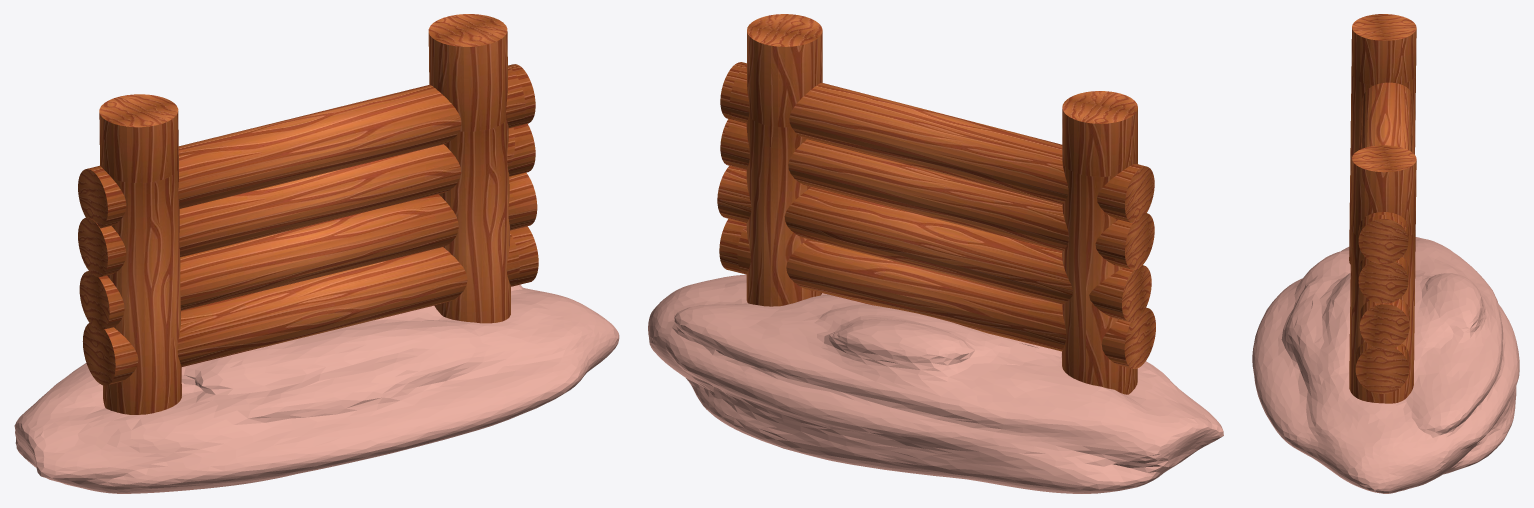
The model's file is Wall Engineer.fbx.
3 renders of one model, left to right at view 1: azimuth 30°, elevation 25°; view 2: azimuth 150°, elevation 25°; view 3: azimuth 270°, elevation 25°, orthographic. The views are drawn at different scales.
Parts seen in each view (by area): view 1: Icosphere, Cylinder.003, Cylinder.004, Cylinder, Cylinder.005, Cylinder.002, Cylinder.001; view 2: Icosphere, Cylinder.003, Cylinder.002, Cylinder, Cylinder.001, Cylinder.005, Cylinder.004; view 3: Icosphere, Cylinder.005, Cylinder.004, Cylinder.003, Cylinder, Cylinder.002, Cylinder.001.
Part boxes in pixels (bbox=[...]): Icosphere: bbox=[14, 284, 619, 493]; Cylinder.003: bbox=[78, 64, 535, 228]; Cylinder.004: bbox=[99, 94, 181, 414]; Cylinder: bbox=[82, 226, 538, 385]; Cylinder.005: bbox=[428, 14, 510, 323]; Cylinder.002: bbox=[79, 172, 537, 330]; Cylinder.001: bbox=[78, 123, 535, 277]; Icosphere: bbox=[648, 274, 1223, 493]; Cylinder.003: bbox=[720, 62, 1154, 222]; Cylinder.002: bbox=[717, 166, 1151, 322]; Cylinder: bbox=[719, 218, 1155, 368]; Cylinder.001: bbox=[720, 119, 1154, 269]; Cylinder.005: bbox=[746, 14, 822, 306]; Cylinder.004: bbox=[1062, 91, 1137, 394]; Icosphere: bbox=[1252, 237, 1519, 493]; Cylinder.005: bbox=[1349, 145, 1416, 403]; Cylinder.004: bbox=[1349, 14, 1416, 264]; Cylinder.003: bbox=[1358, 82, 1412, 264]; Cylinder: bbox=[1355, 342, 1409, 393]; Cylinder.002: bbox=[1359, 299, 1409, 349]; Cylinder.001: bbox=[1358, 132, 1412, 303].
Bounding box in the file's own units: 346 × 219 × 167.
